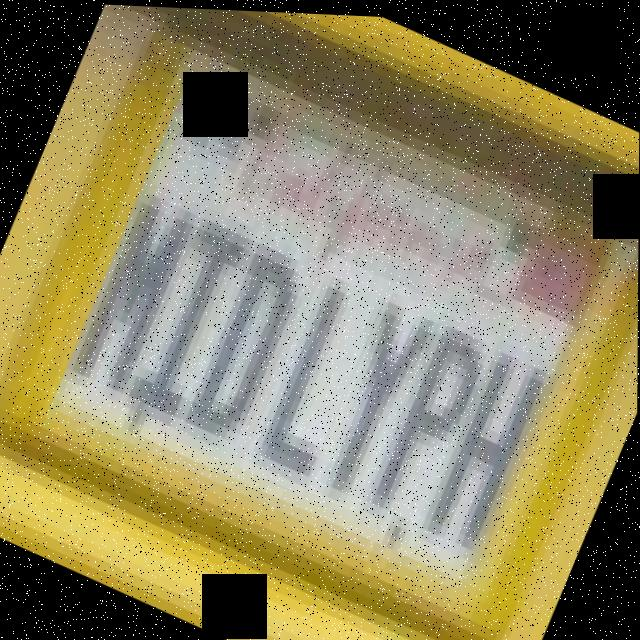D: (174, 218, 319, 455)
H: (414, 330, 560, 571)
I: (120, 200, 254, 430)
L: (241, 248, 391, 495)
M: (62, 173, 205, 403)
P: (357, 303, 500, 542)
Y: (306, 276, 444, 513)
